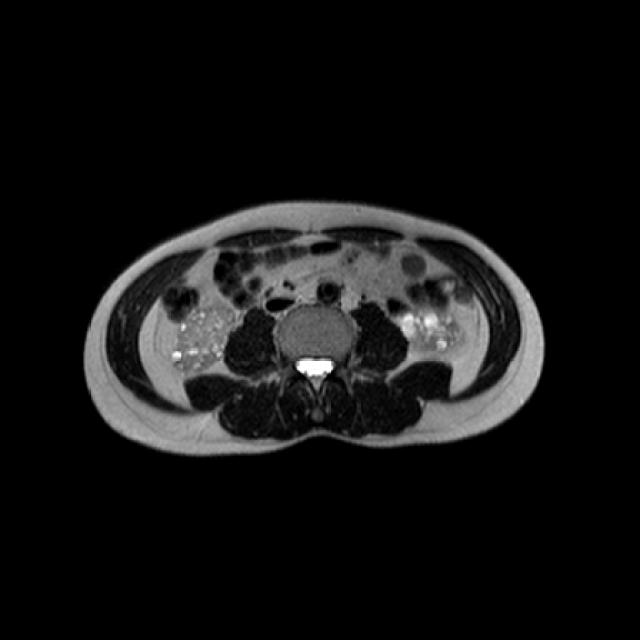sag: (169, 301, 235, 374)
sol: (397, 303, 469, 352)
